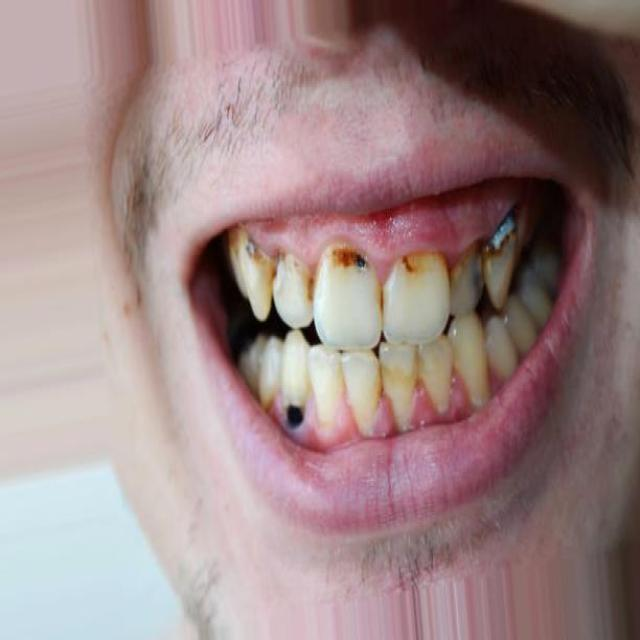caries: (270, 255, 316, 318), (331, 238, 372, 284), (483, 209, 518, 261), (393, 245, 434, 289), (278, 393, 309, 438), (239, 230, 266, 277)
